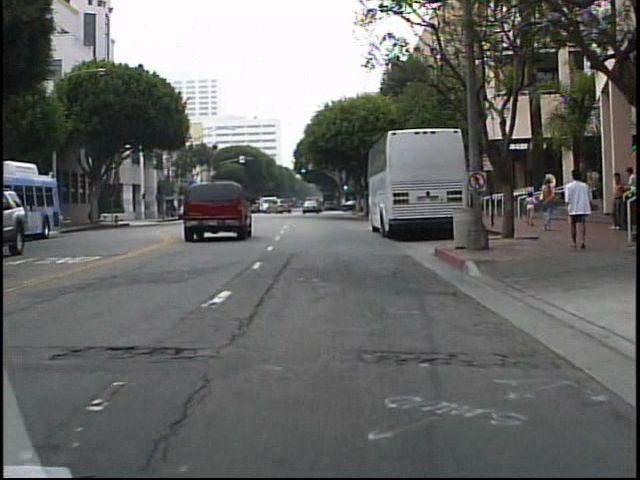person: (563, 168, 596, 251), (606, 169, 624, 235), (539, 176, 558, 237), (523, 192, 539, 229)
